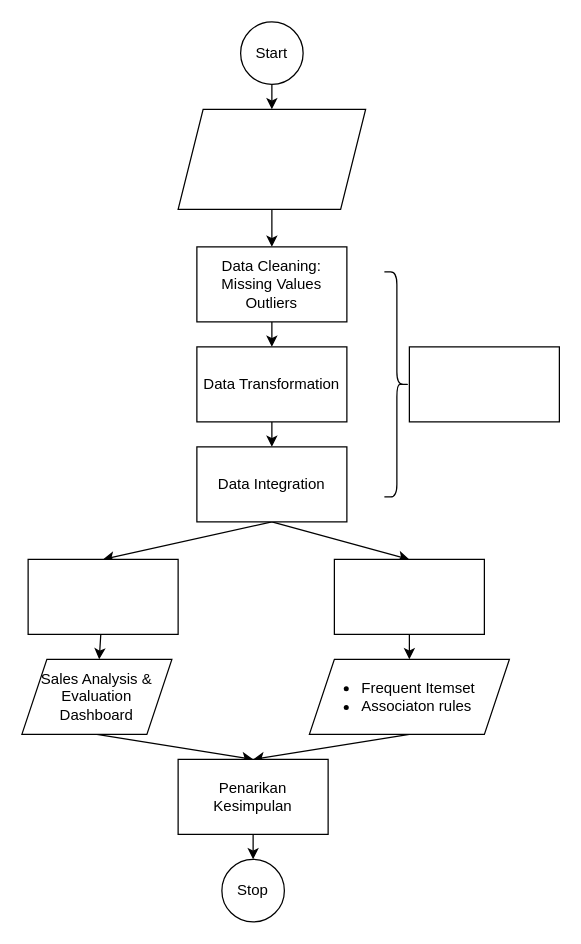
Image size: 581x944. Some labels were removed from this diagram. Each missing label, with the centre of its shape:
Data Preprocessing: pixel 483 384
Exploratory Data Analysis: pixel 102 596
Import data: List of Orders.csv Order Details.csv Sales target.csv: pixel 271 158
Markest Basket Analysis: pixel 408 596
